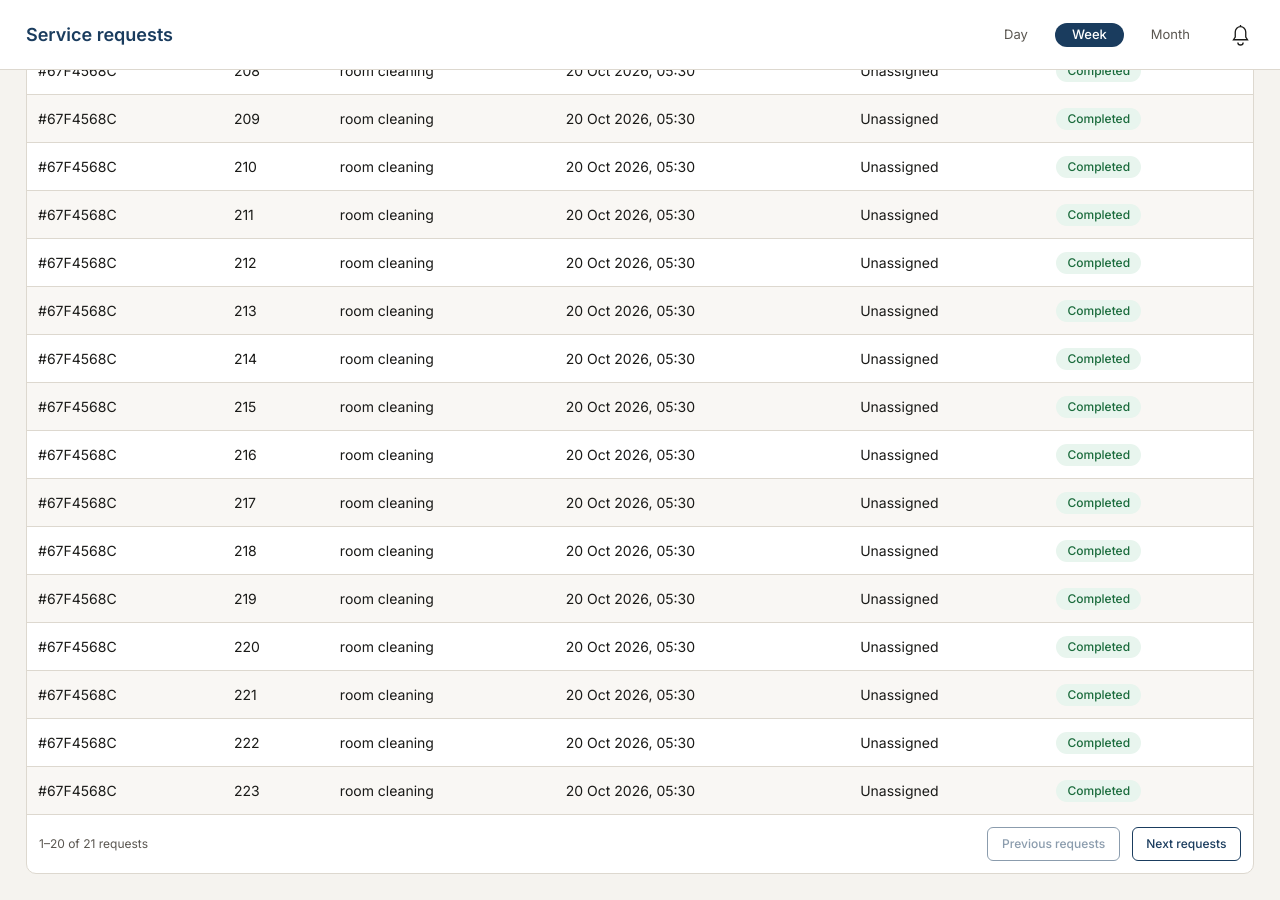
Test: DDP-032 operations views › renders request rows, assignees and paginated history
(page scrolled)
Click the button "Next requests": x=1186, y=844 [1132,827,1241,860]
(page scrolled)
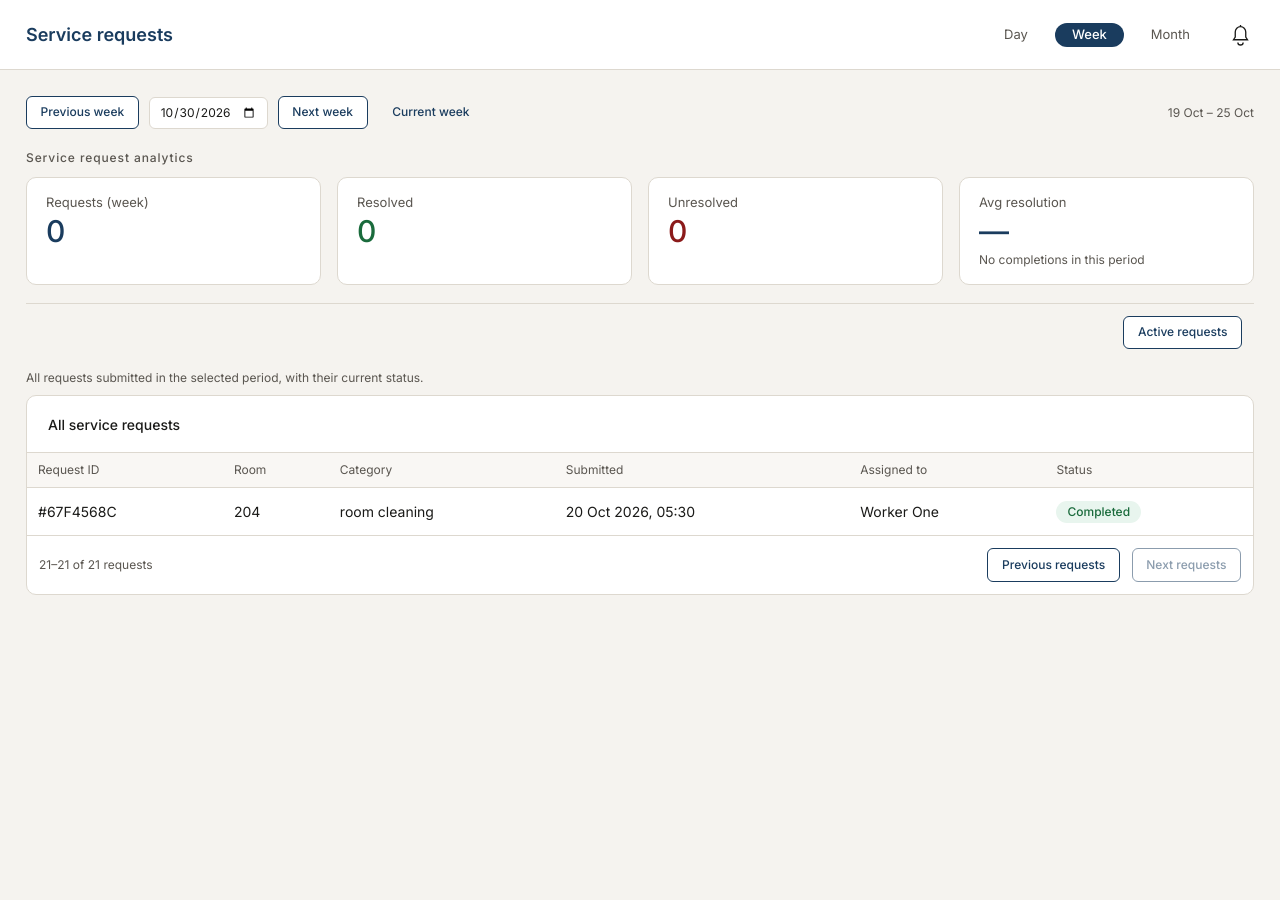
Expected: the text "21–21 of 21 requests" is shown, [39,556,153,574]
Expected: the button "Next requests" is disabled, [1132,548,1241,582]
Click the button "Active requests": x=1183, y=333 [1123,316,1242,349]
(page scrolled)
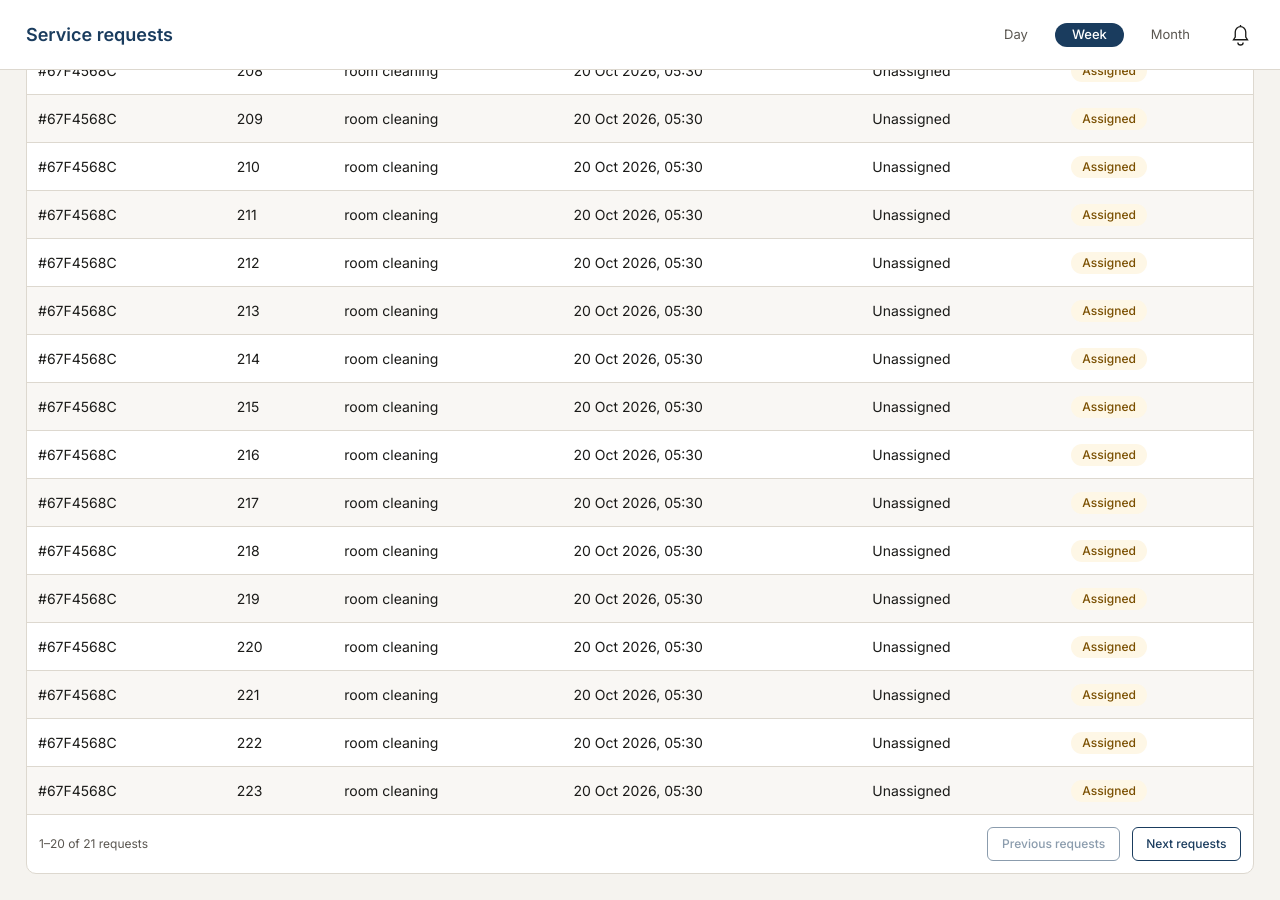
Expected: the text "1–20 of 21 requests" is shown, [39,835,148,853]
Expected: the text "Assigned" is shown 20 times
